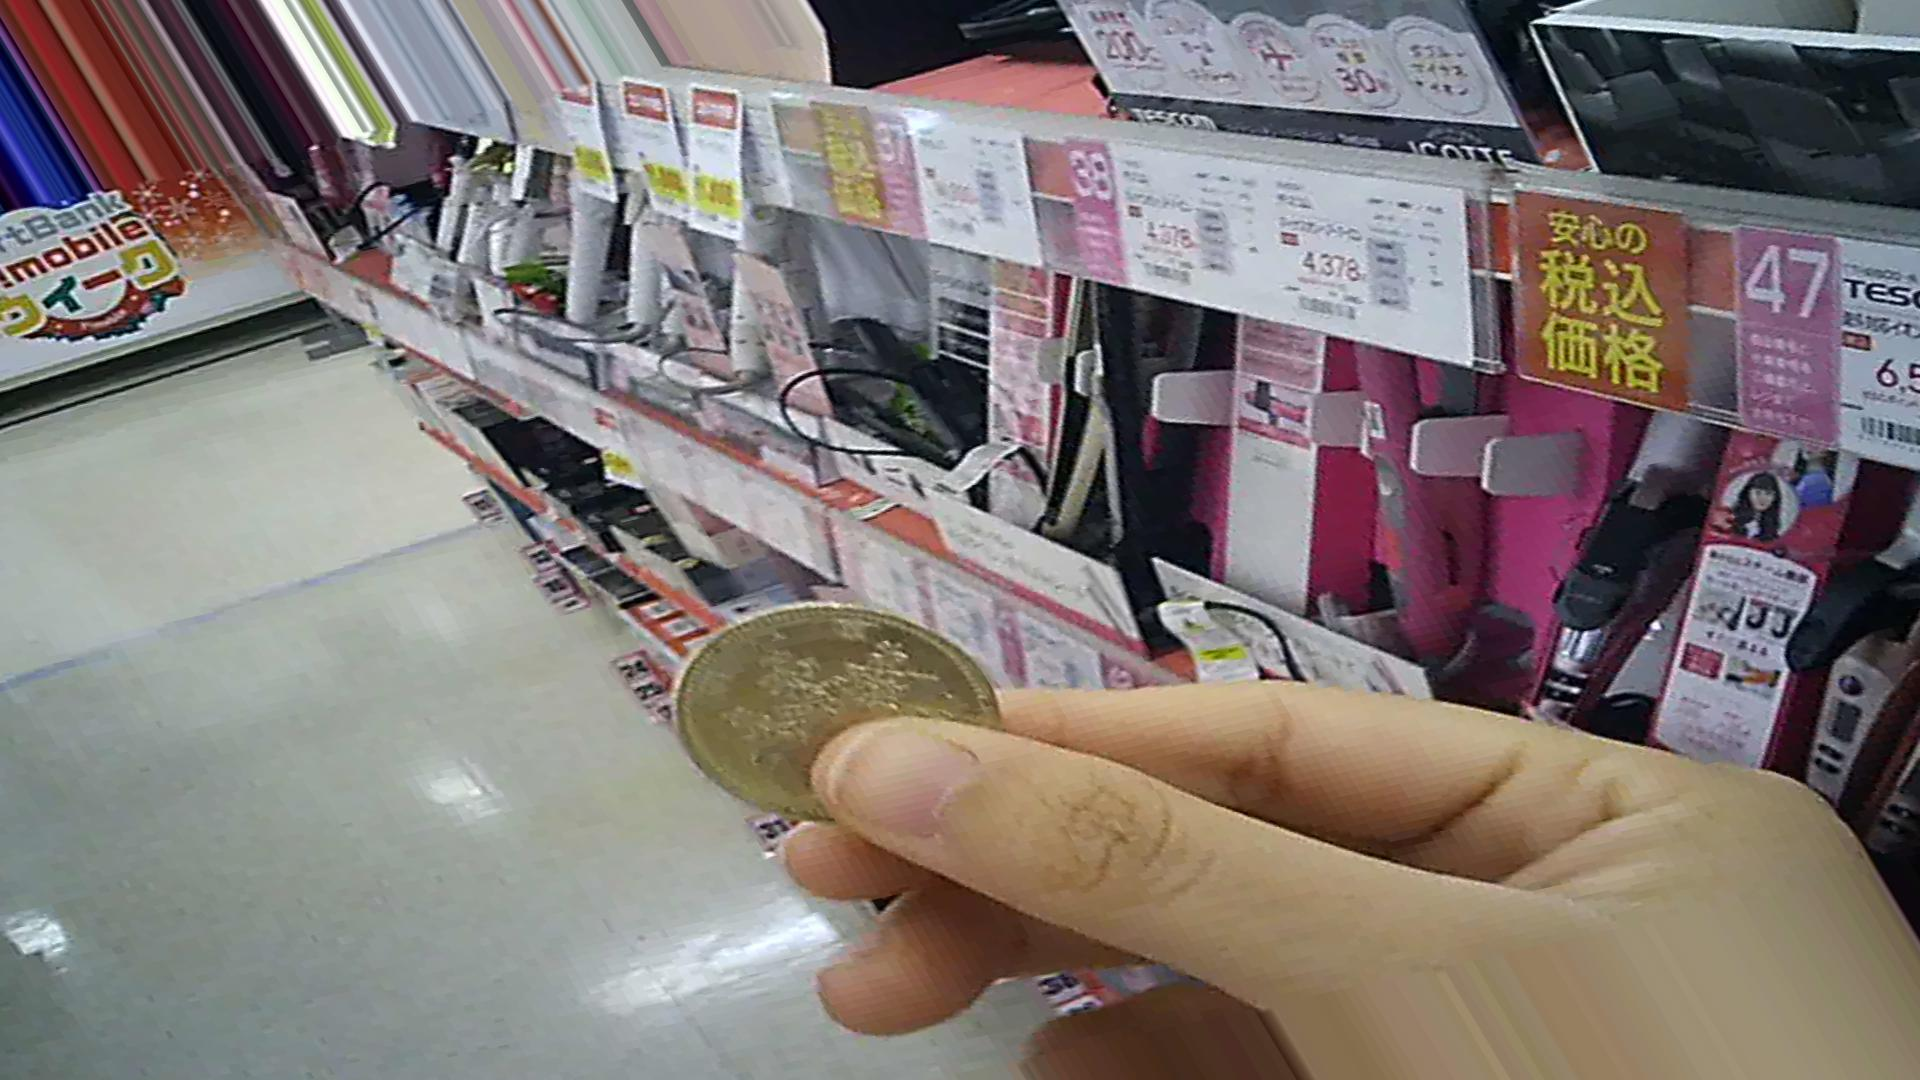500 Yen: (669, 612, 1018, 852)
